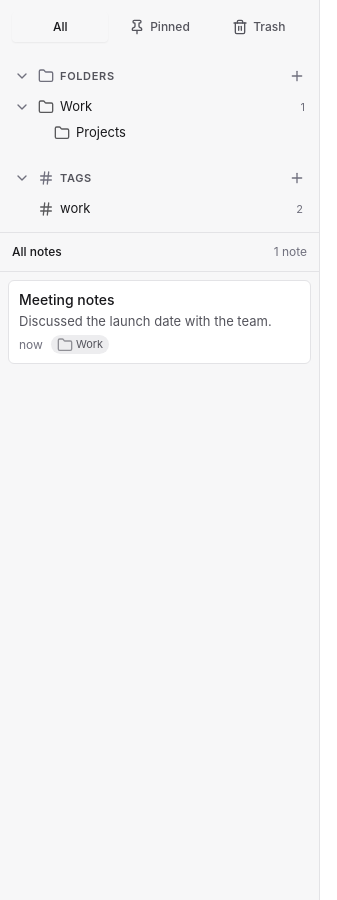
Test: Sidebar › creates a tag from the sidebar input with Enter
Click the button named "New tag" at coordinates (297, 178), box [287, 168, 307, 188]
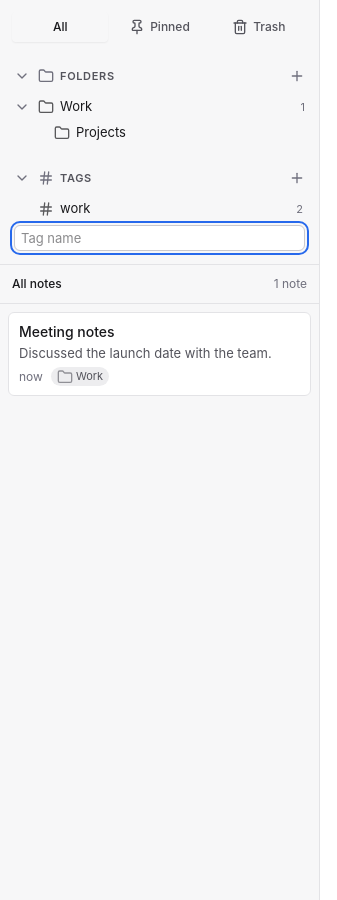
Type "urgent" into the field with test id "tag-name-input" at coordinates (160, 238), box [14, 225, 305, 251]
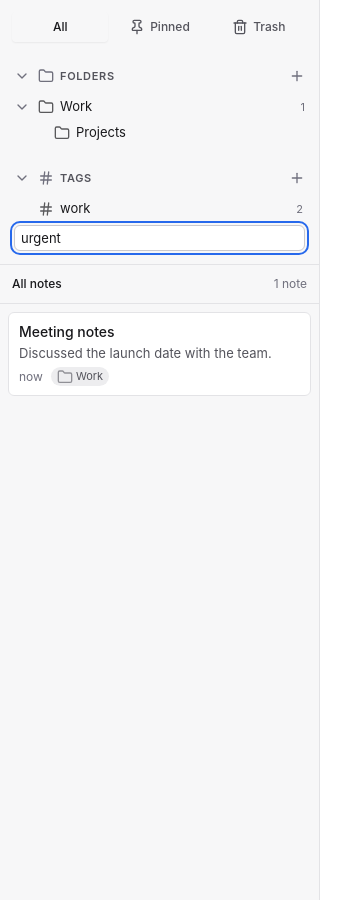
Press Enter in the field with test id "tag-name-input", box [14, 225, 305, 251]
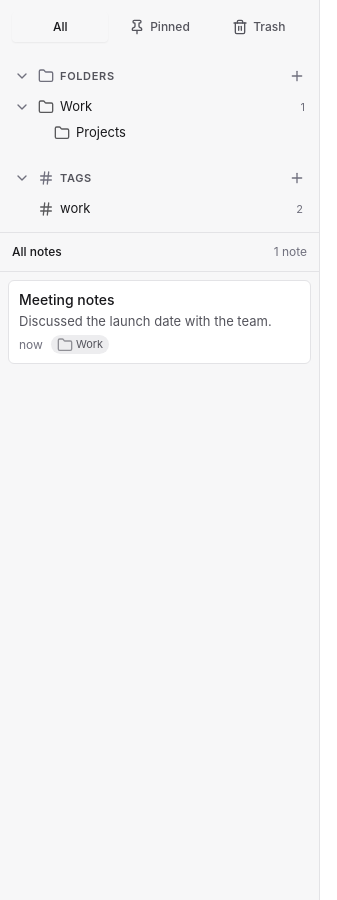
Expected: the field with test id "tag-name-input" is gone
